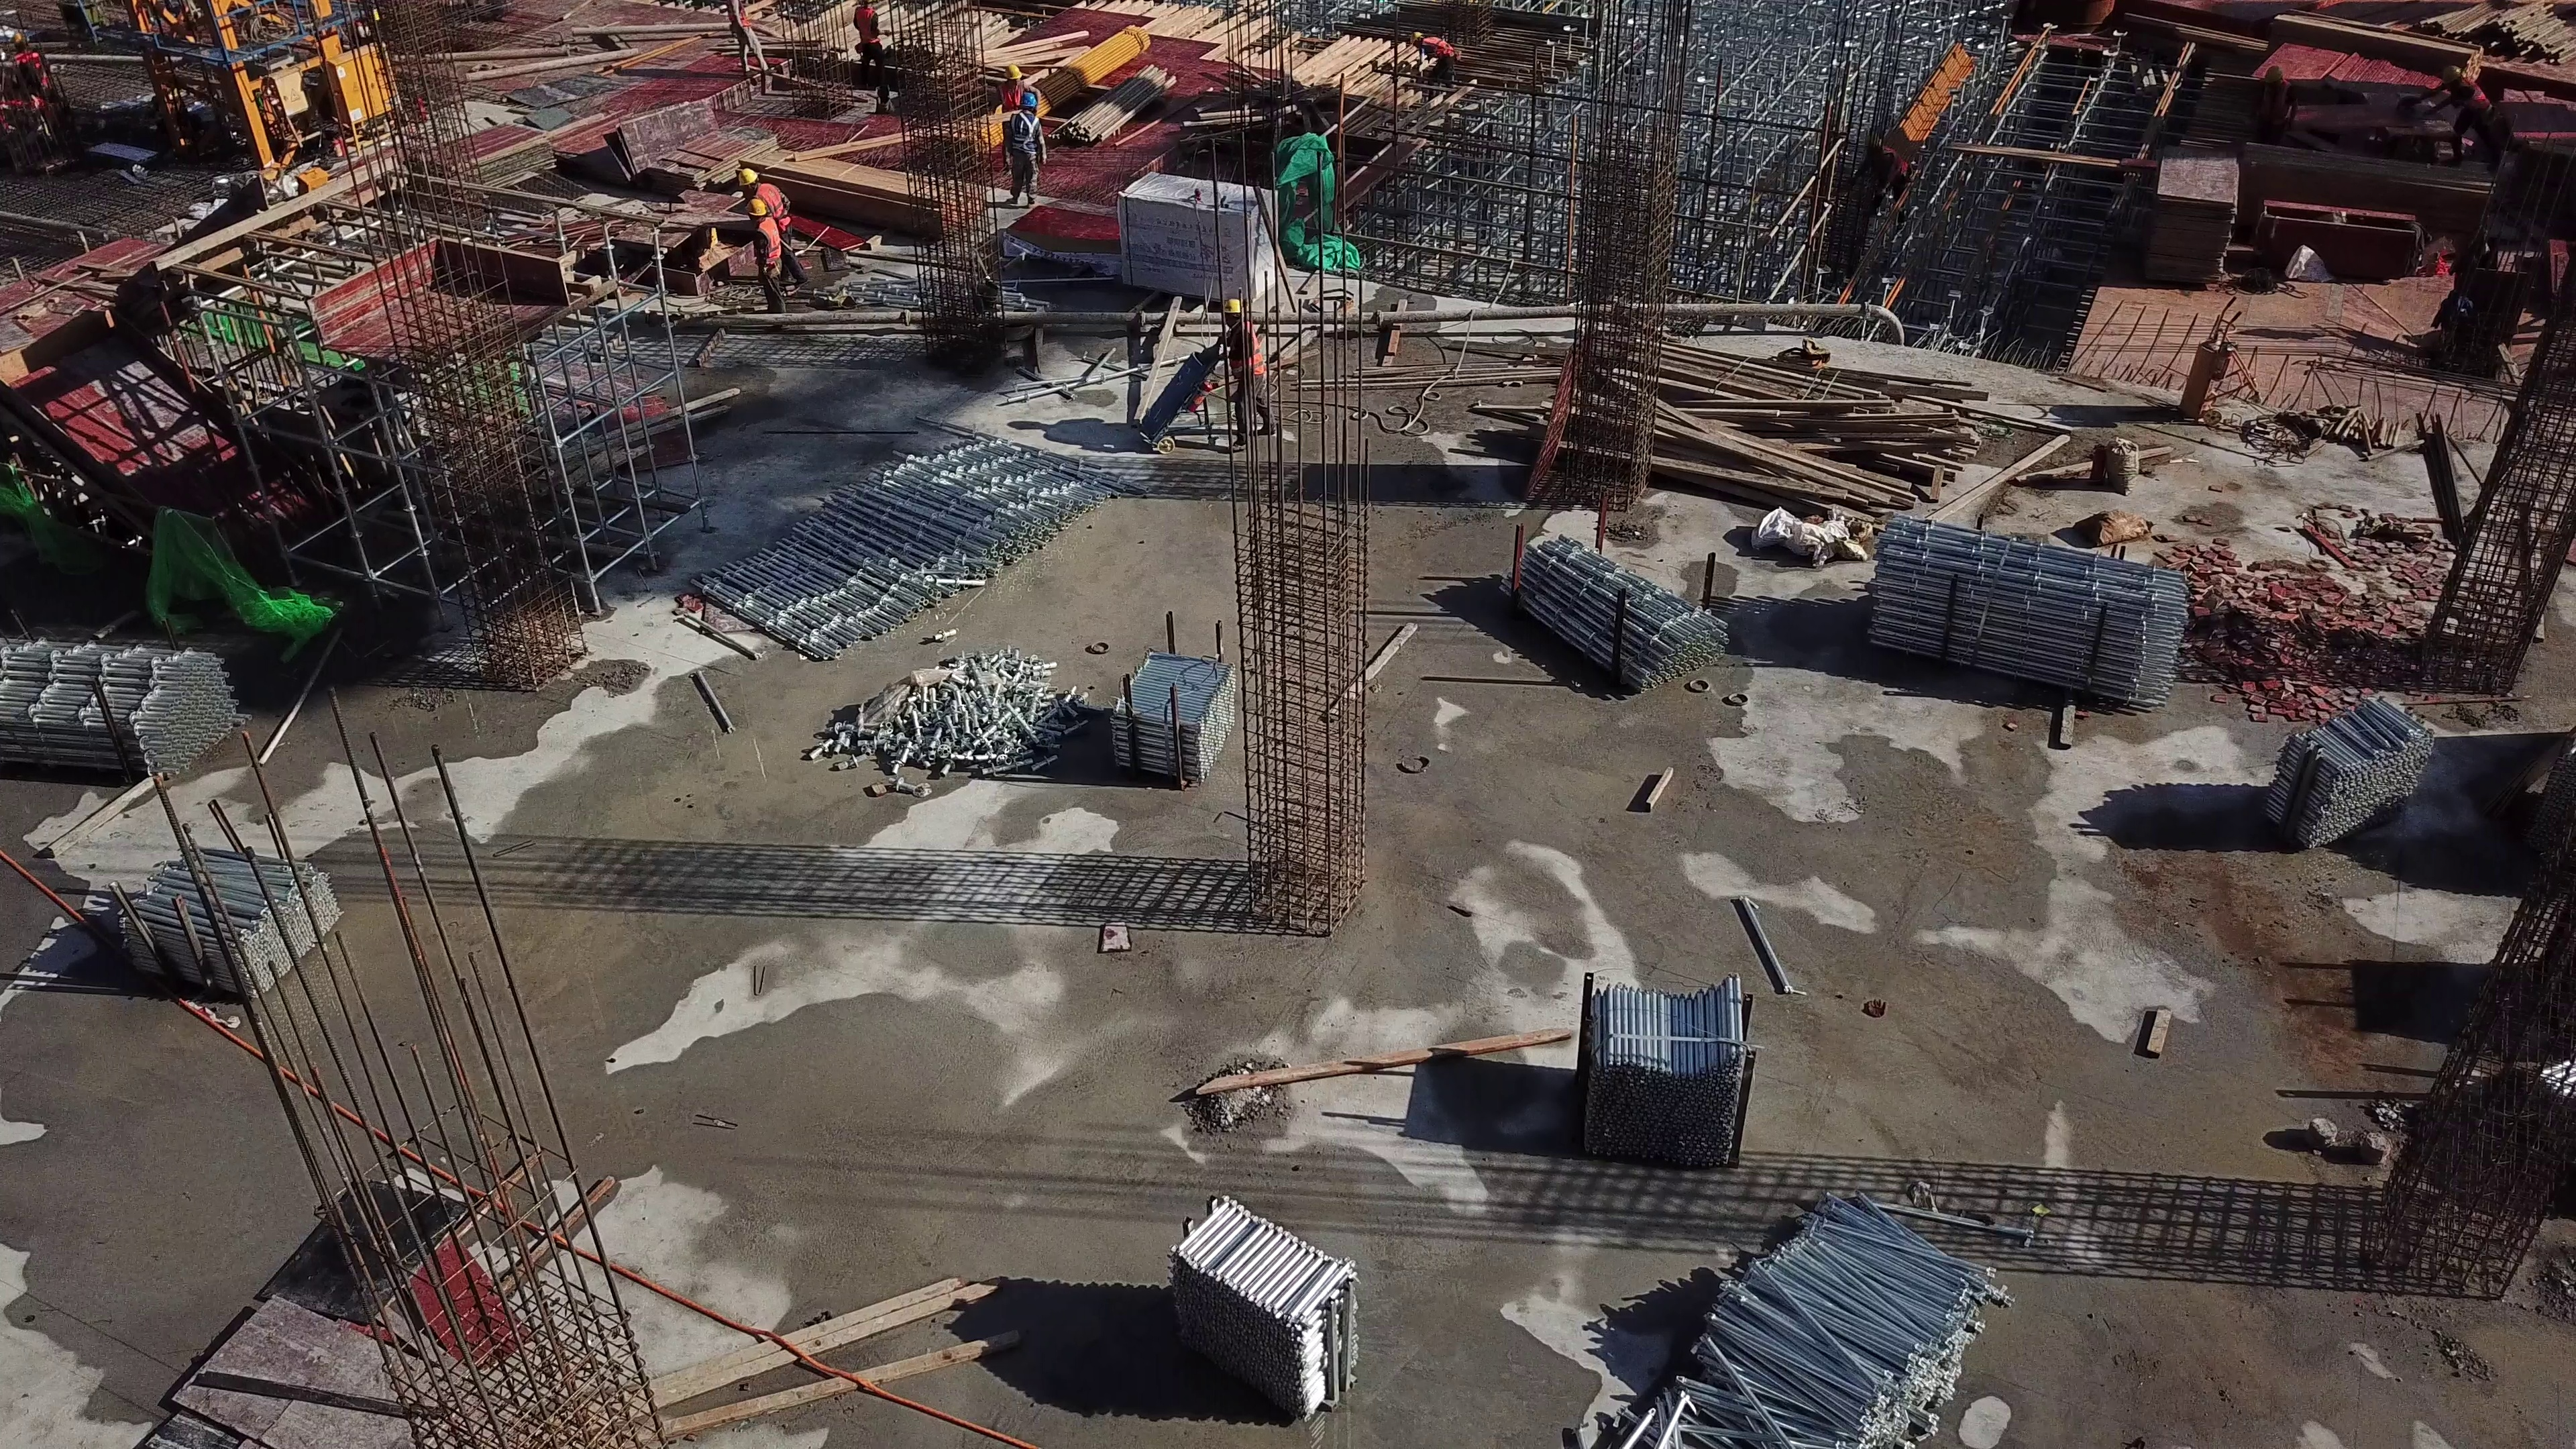helmet: (737, 167, 760, 187), (1022, 90, 1038, 109), (1223, 299, 1246, 313), (1000, 64, 1020, 78), (1408, 28, 1424, 46), (2265, 66, 2282, 82), (749, 198, 766, 215), (2445, 64, 2461, 80)
person: (1211, 299, 1269, 445), (737, 165, 799, 283), (1000, 93, 1040, 205), (2445, 65, 2493, 156), (2253, 66, 2299, 150), (850, 3, 884, 98), (750, 200, 783, 300), (1002, 65, 1047, 128), (1408, 30, 1455, 87), (1872, 129, 1907, 194), (729, 3, 758, 61)
vest: (1230, 324, 1263, 376), (2460, 75, 2494, 117), (759, 180, 785, 223), (1013, 111, 1036, 154), (758, 219, 777, 262), (856, 8, 878, 46), (1002, 80, 1022, 107), (1424, 39, 1452, 56)
